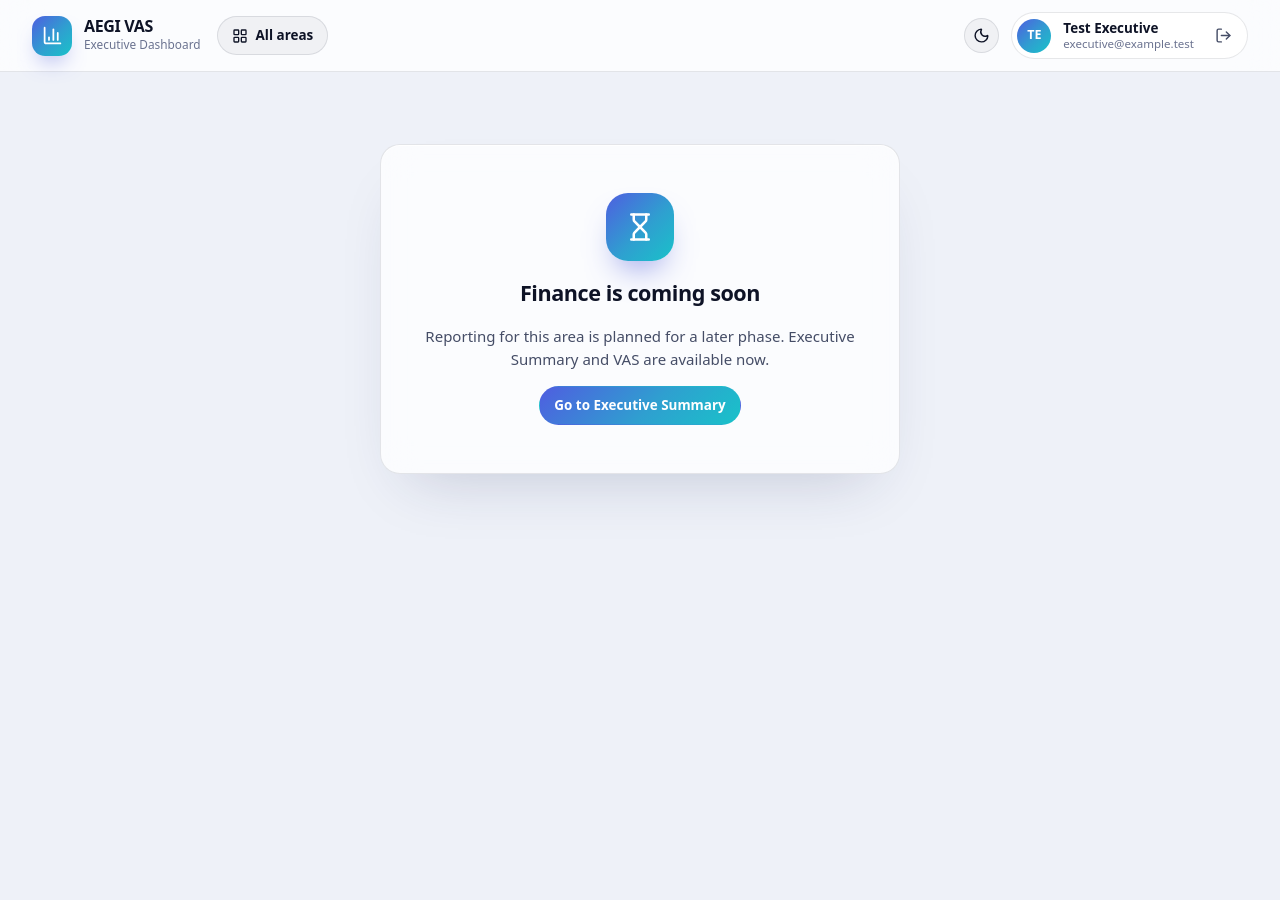
Test: AppRouter › switches between light and dark from the toggle
Click the button named "Switch to dark theme": (982,36) left=964, top=18, right=999, bottom=53
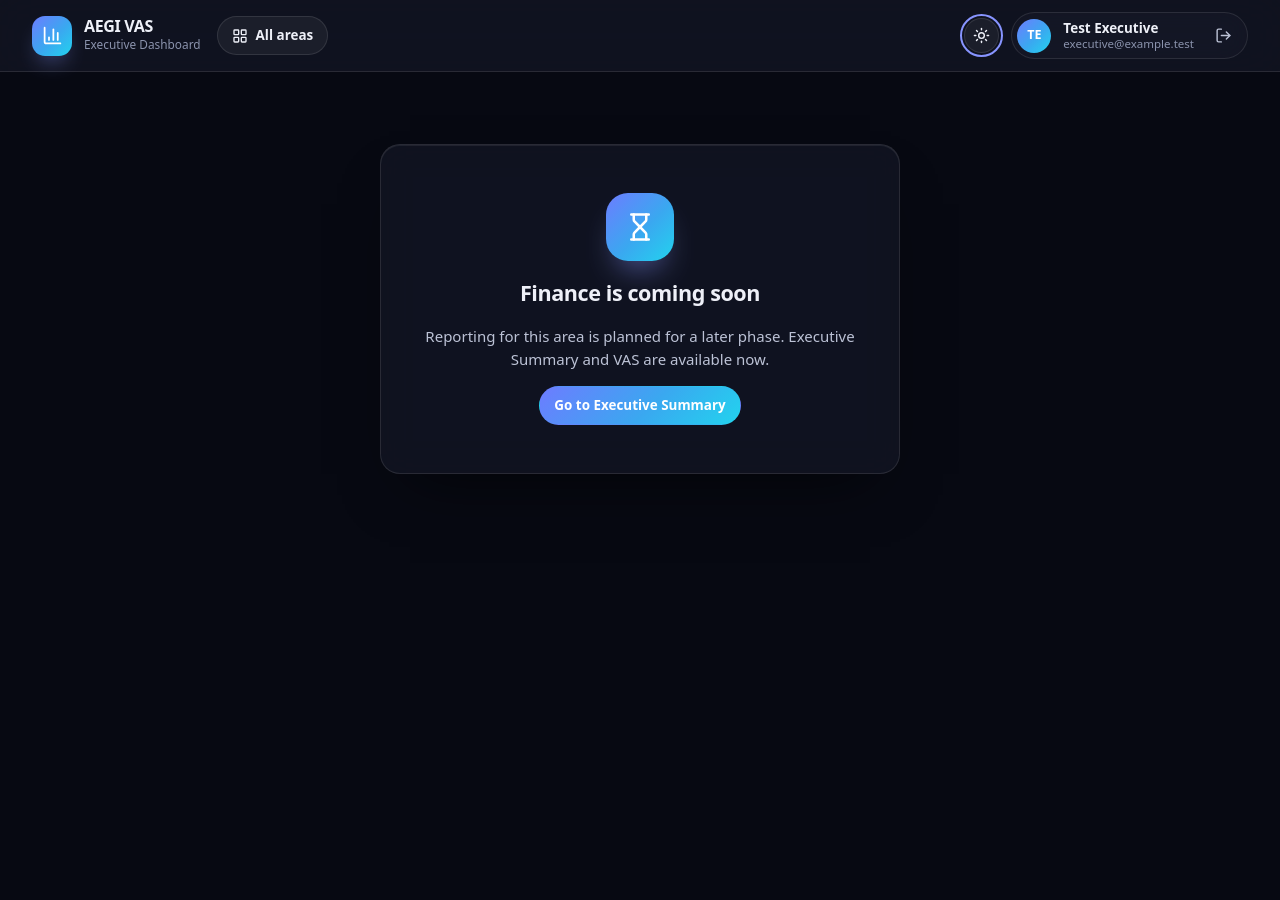
Expected: the button named "Switch to light theme" is shown, left=964, top=18, right=999, bottom=53
